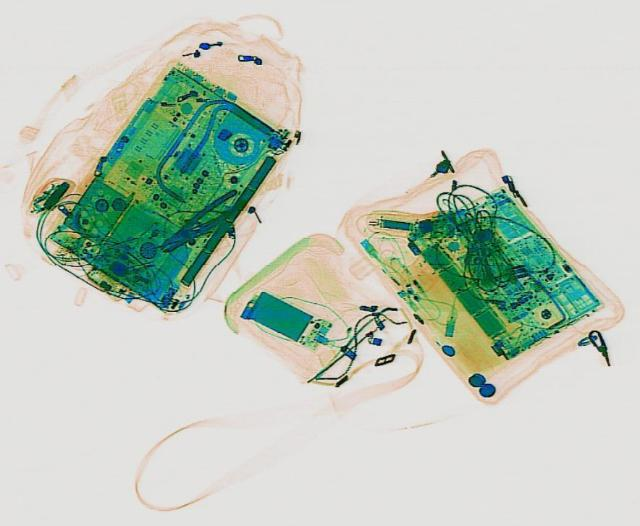Pliers: (146, 186, 252, 259)
